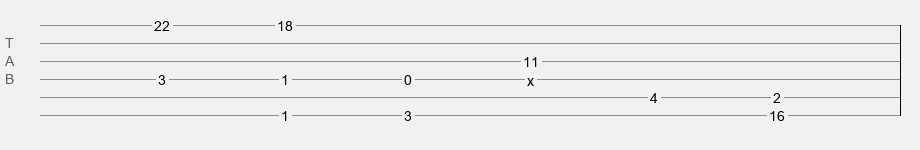0: (404, 72, 412, 82)
1: (281, 108, 289, 118), (281, 72, 289, 82)
11: (523, 54, 539, 64)
16: (769, 108, 785, 118)
18: (277, 18, 293, 28)
2: (773, 90, 781, 100)
22: (154, 18, 170, 28)
3: (158, 72, 166, 82), (404, 108, 412, 118)
4: (650, 90, 658, 100)
x: (527, 73, 534, 81)
